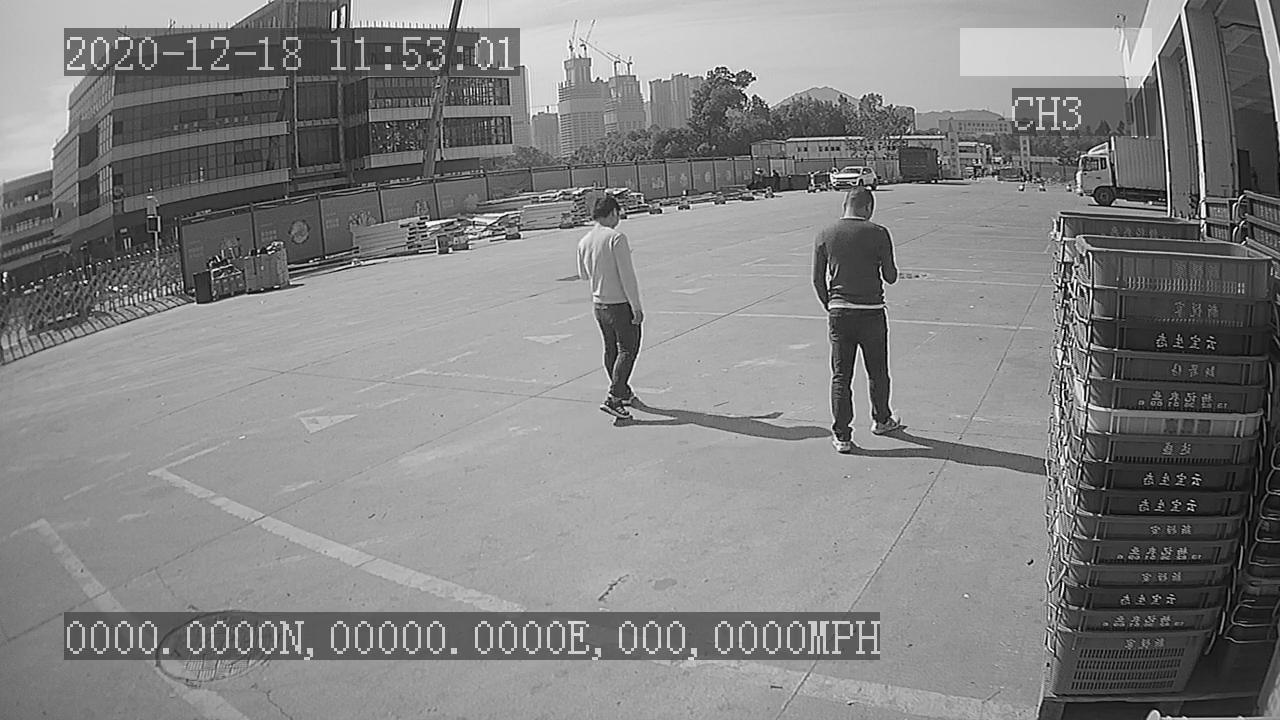person: (804, 181, 909, 458), (567, 195, 651, 429)
